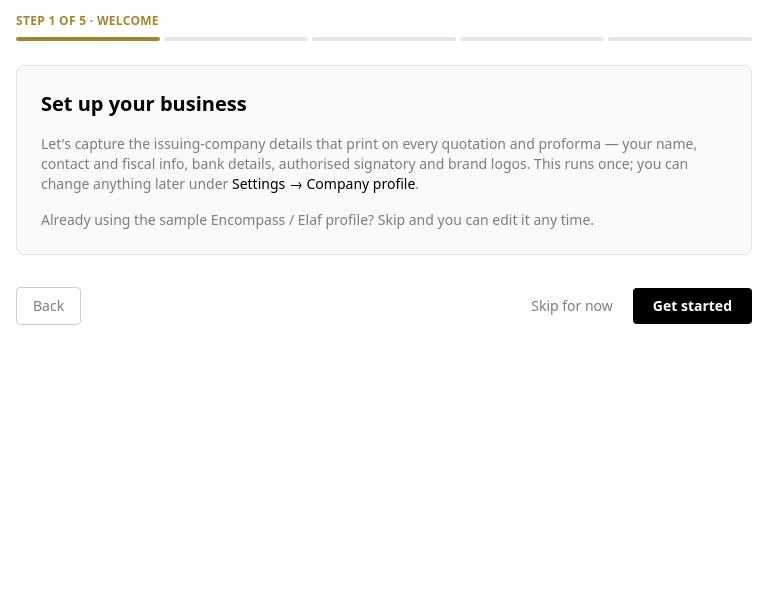
Test case: OnboardingView stepper (#37) › opens on the welcome step and walks forward to the identity fields
The width and height of the screenshot is (769, 613).
Expected: the heading "Set up your business" is shown, [41,90,247,117]
Expected: the field labelled "Legal name (EN)" is not shown
Click the button "Get started". click: (692,306)
box: [633,288,752,324]
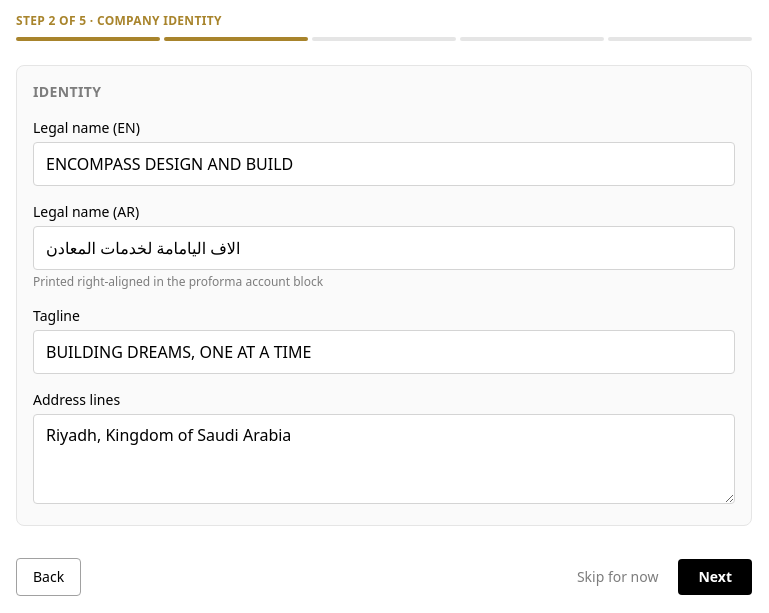
Result: the field labelled "Legal name (EN)" holds "ENCOMPASS DESIGN AND BUILD" at [33,142,735,186]
